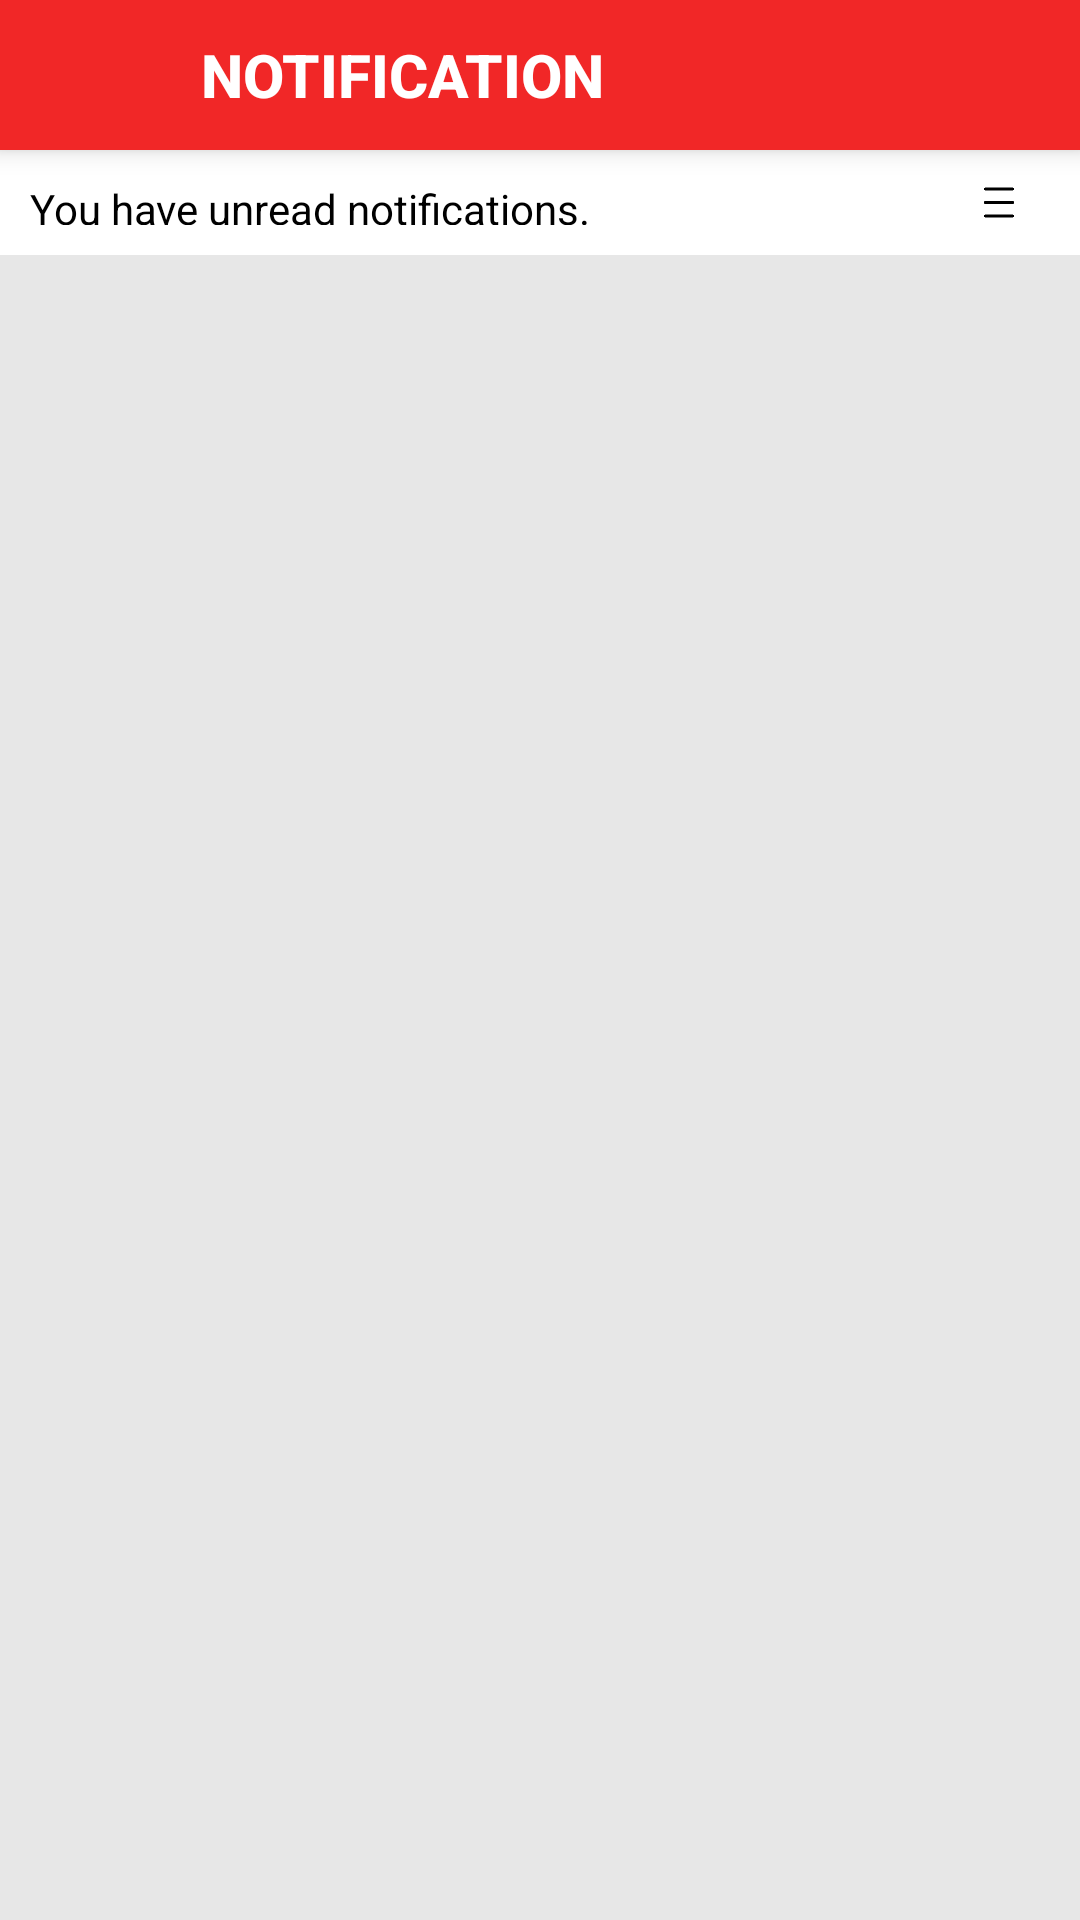

Where to tap for icons on this 1080px x 1920px app screen, as [x,y]:
bar: [999,202]
